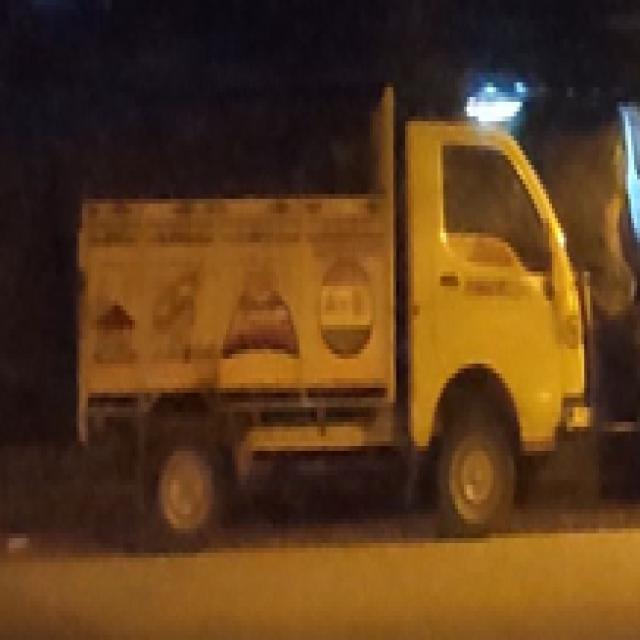minitruck: (65, 82, 594, 562)
